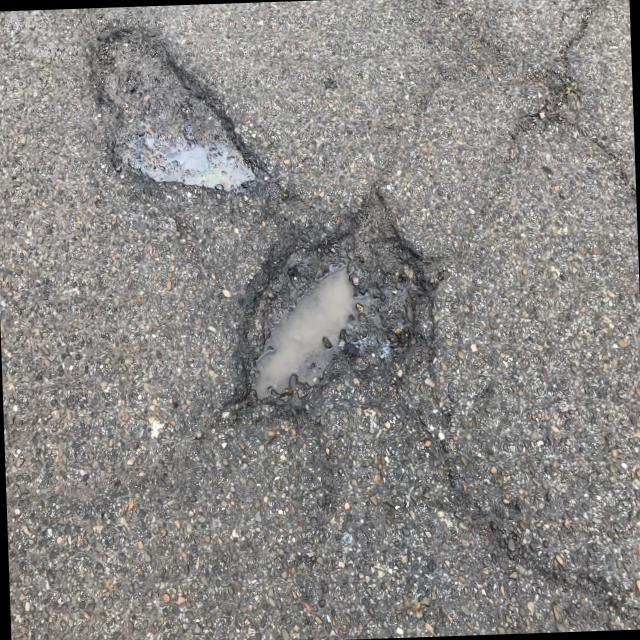Pothole: (194, 177, 456, 445), (58, 22, 286, 220)
